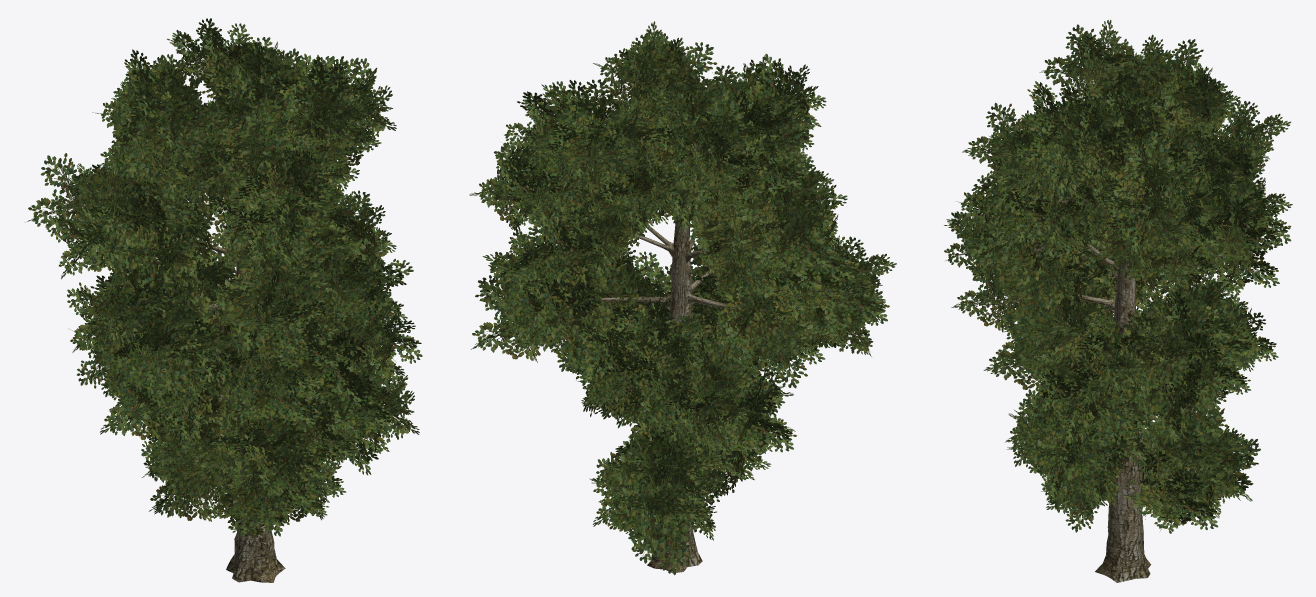
File: models__pg_props__pg_forest__pg_tree02_mdl_skin0.gltf
3 views of the same model, side by side, from view 1: azimuth 30°, elevation 25°; view 2: azimuth 150°, elevation 25°; view 3: azimuth 270°, elevation 25° (orthographic). The views are drawn at different scales.
Visible parts, largest first — view 1: models__pg_props__pg_forest__pg_tree02_mdl; view 2: models__pg_props__pg_forest__pg_tree02_mdl; view 3: models__pg_props__pg_forest__pg_tree02_mdl.
Boxes of the visible parts, x1,y1,x2,y2 form: models__pg_props__pg_forest__pg_tree02_mdl: (25,18,422,582); models__pg_props__pg_forest__pg_tree02_mdl: (469,21,896,575); models__pg_props__pg_forest__pg_tree02_mdl: (944,20,1292,582).
Bounding box in the file's own units: 6.95 × 9.22 × 6.09.
3 materials, 3 textured.
